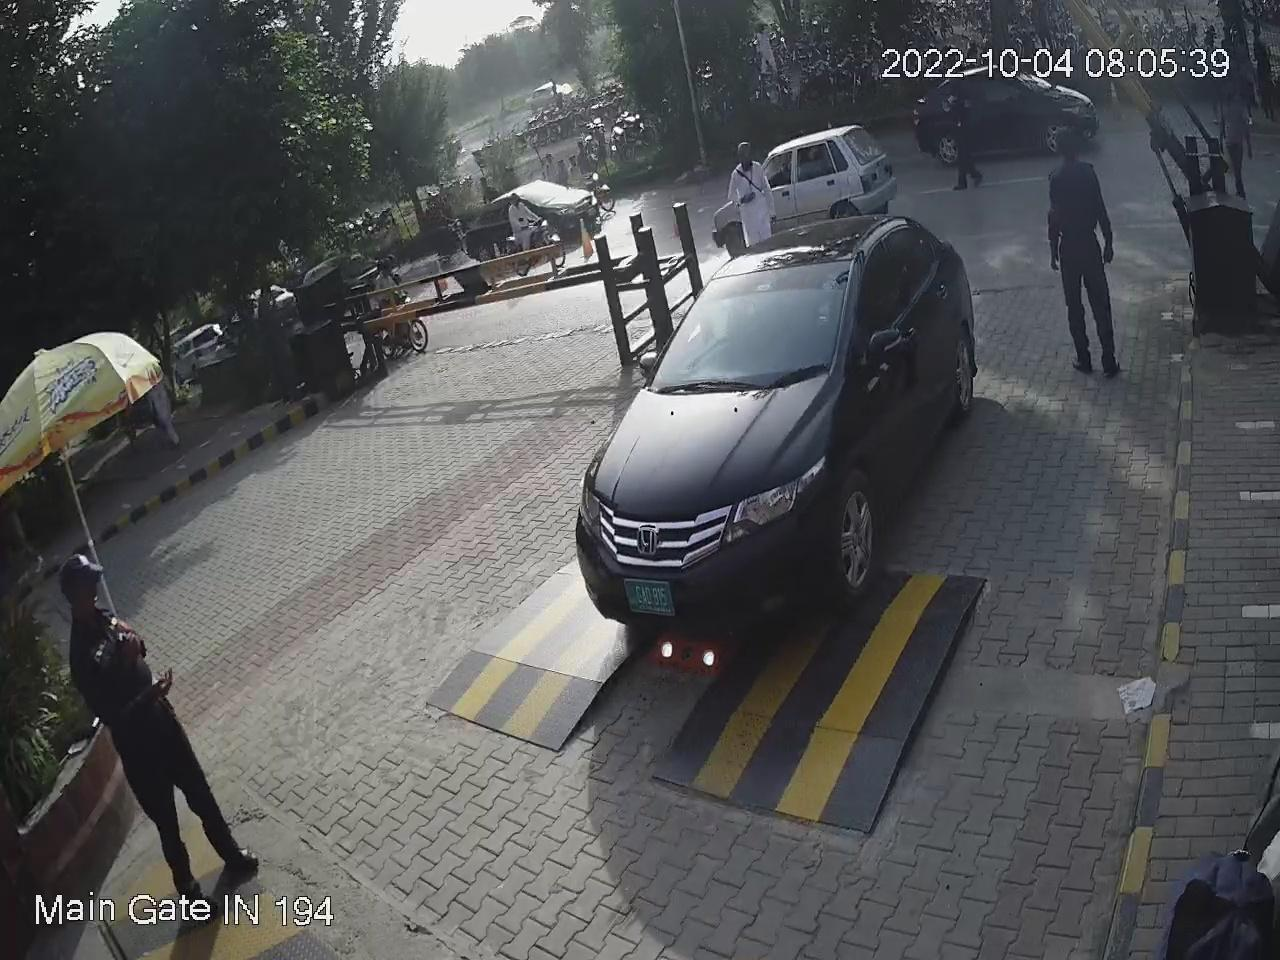windshield: (645, 247, 854, 397)
